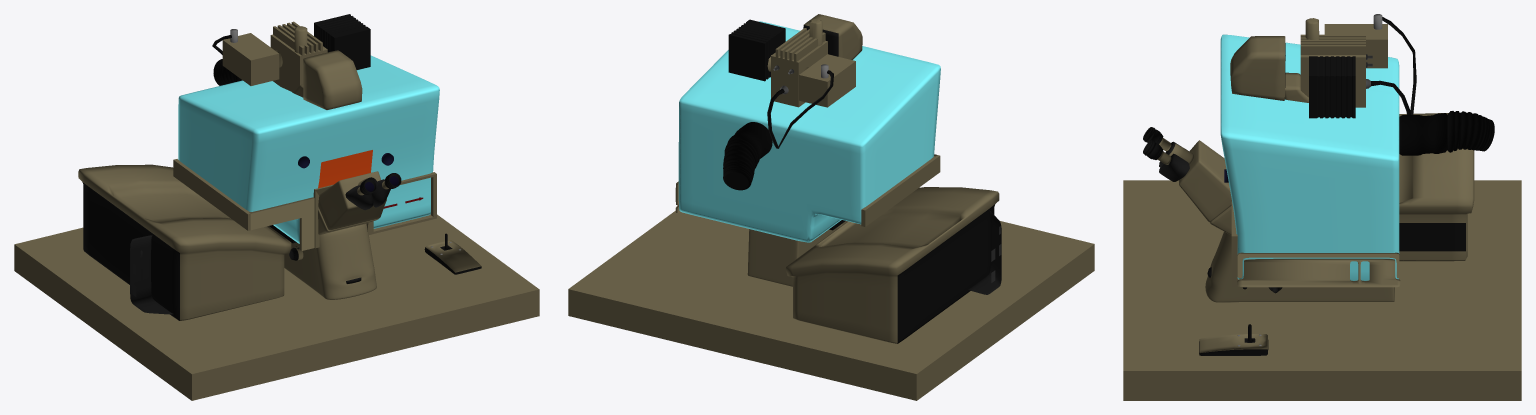
Rendered from MOAConfocalMicroscope.fbx.
The picture shows the model from 3 angles, left to right: view 1: azimuth 30°, elevation 25°; view 2: azimuth 150°, elevation 25°; view 3: azimuth 270°, elevation 25°; orthographic projection. The views are drawn at different scales.
Visible parts, largest first — view 1: Confocal-Exterior, Exterior-Glass; view 2: Confocal-Exterior, Exterior-Glass; view 3: Confocal-Exterior, Exterior-Glass.
Boxes of the visible parts, bbox=[...] form: Confocal-Exterior: bbox=[14, 14, 539, 400]; Exterior-Glass: bbox=[178, 55, 439, 243]; Confocal-Exterior: bbox=[568, 14, 1094, 400]; Exterior-Glass: bbox=[678, 21, 940, 242]; Confocal-Exterior: bbox=[1123, 14, 1521, 400]; Exterior-Glass: bbox=[1220, 34, 1399, 280].
Bounding box in the file's own units: 1630 × 1182 × 1441.
